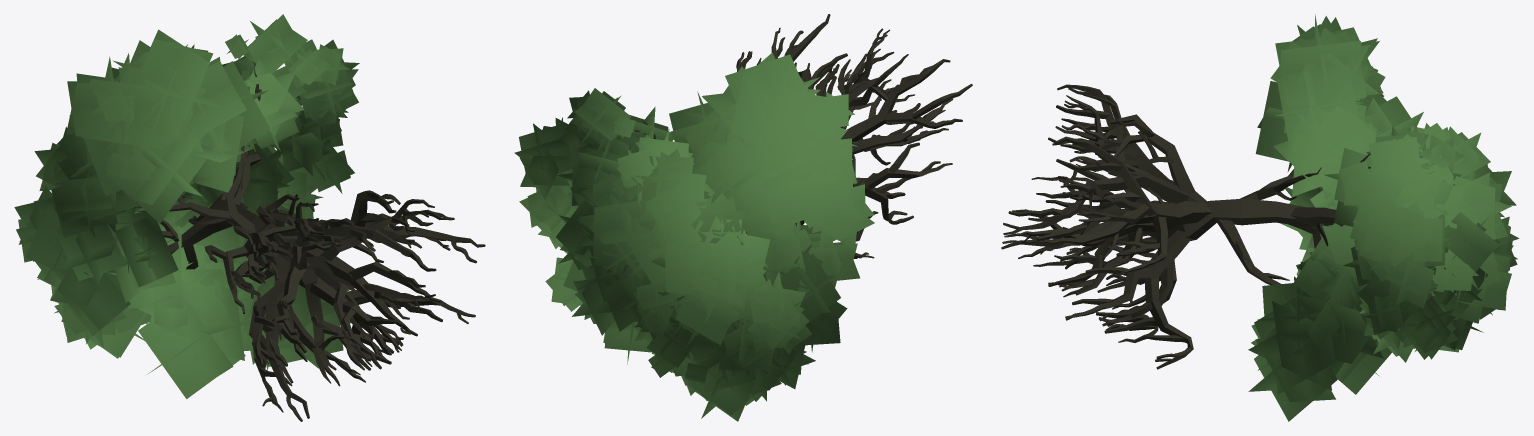
File: Mangrove Trees.fbx
3 renders of one model, left to right at view 1: azimuth 30°, elevation 25°; view 2: azimuth 150°, elevation 25°; view 3: azimuth 270°, elevation 25°, orthographic. The views are drawn at different scales.
Visible parts, largest first — view 1: Mangrove 3, Mangrove 2, Mangrove 1; view 2: Mangrove 1, Mangrove 3, Mangrove 2; view 3: Mangrove 3, Mangrove 2, Mangrove 1.
Boxes of the visible parts, box(x1,y1,x2,y2) form: Mangrove 3: box(51, 29, 434, 399); Mangrove 2: box(25, 14, 454, 412); Mangrove 1: box(14, 67, 485, 421); Mangrove 1: box(557, 14, 972, 421); Mangrove 3: box(651, 27, 948, 354); Mangrove 2: box(514, 51, 945, 388); Mangrove 3: box(1004, 14, 1423, 421); Mangrove 2: box(1038, 114, 1500, 362); Mangrove 1: box(1001, 84, 1519, 369).
Size of what is drawn, in the model's own units: 3202 by 3250 by 4421.
